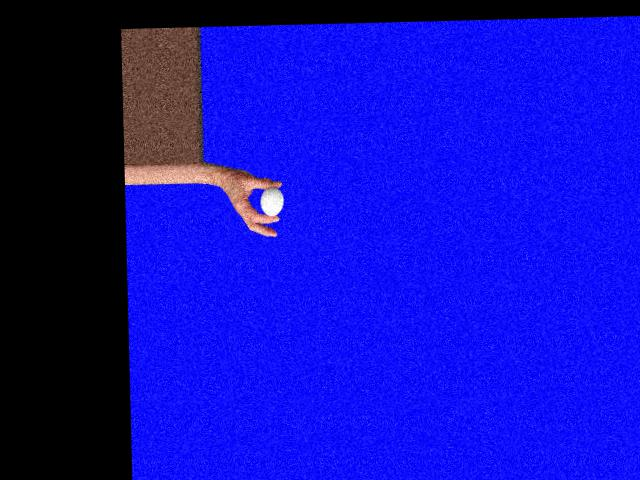egg: (260, 186, 284, 216)
